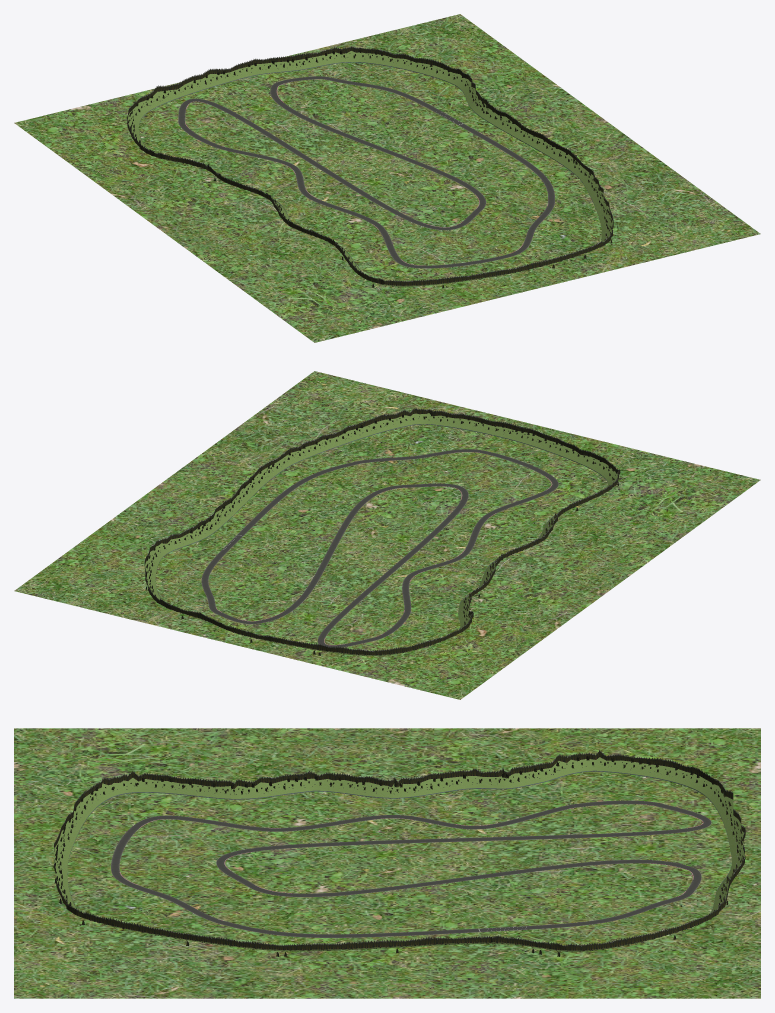
The picture shows the model from 3 angles, top to bottom: view 1: azimuth 30°, elevation 25°; view 2: azimuth 150°, elevation 25°; view 3: azimuth 270°, elevation 25°; orthographic projection. The views are drawn at different scales.
Visible parts, largest first — view 1: Plane, RaceTrack_Wall_00, RaceTrack_Main_00, RaceTrack_Trees_00; view 2: Plane, RaceTrack_Wall_00, RaceTrack_Main_00, RaceTrack_Trees_00; view 3: Plane, RaceTrack_Wall_00, RaceTrack_Main_00, RaceTrack_Trees_00.
Part boxes in pixels (x1,y1,x2,y2): Plane: [14, 14, 760, 342]; RaceTrack_Wall_00: [127, 46, 613, 286]; RaceTrack_Main_00: [178, 76, 554, 268]; RaceTrack_Trees_00: [128, 50, 612, 288]; Plane: [14, 371, 760, 699]; RaceTrack_Wall_00: [144, 408, 620, 655]; RaceTrack_Main_00: [201, 449, 558, 647]; RaceTrack_Trees_00: [145, 413, 618, 655]; Plane: [14, 728, 760, 998]; RaceTrack_Wall_00: [54, 749, 745, 951]; RaceTrack_Main_00: [111, 800, 711, 937]; RaceTrack_Trees_00: [53, 756, 745, 956].
Bounding box in the file's own units: 1200 × 36.99 × 1400.
